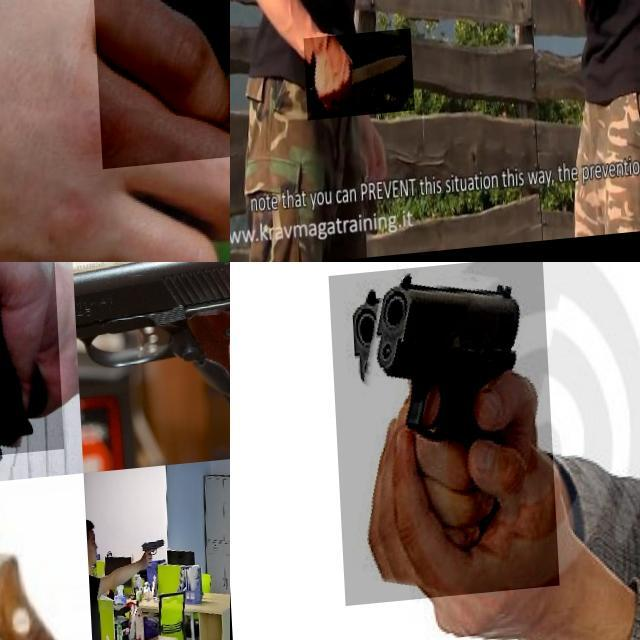-: (75, 0, 230, 262), (298, 33, 409, 123)
gun-knife-thesis - v11 Yolov5 augmented: (326, 262, 554, 608), (0, 262, 150, 476), (68, 262, 230, 460), (0, 481, 158, 640), (135, 544, 161, 576)
